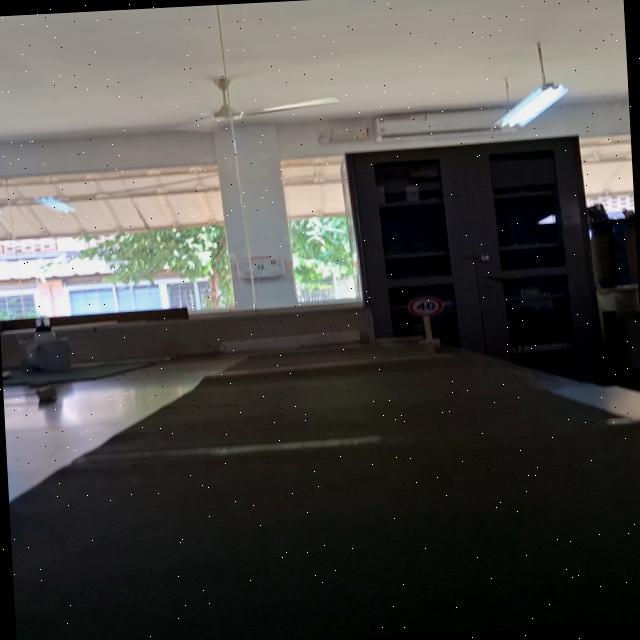Speed40: (405, 293, 446, 318)
